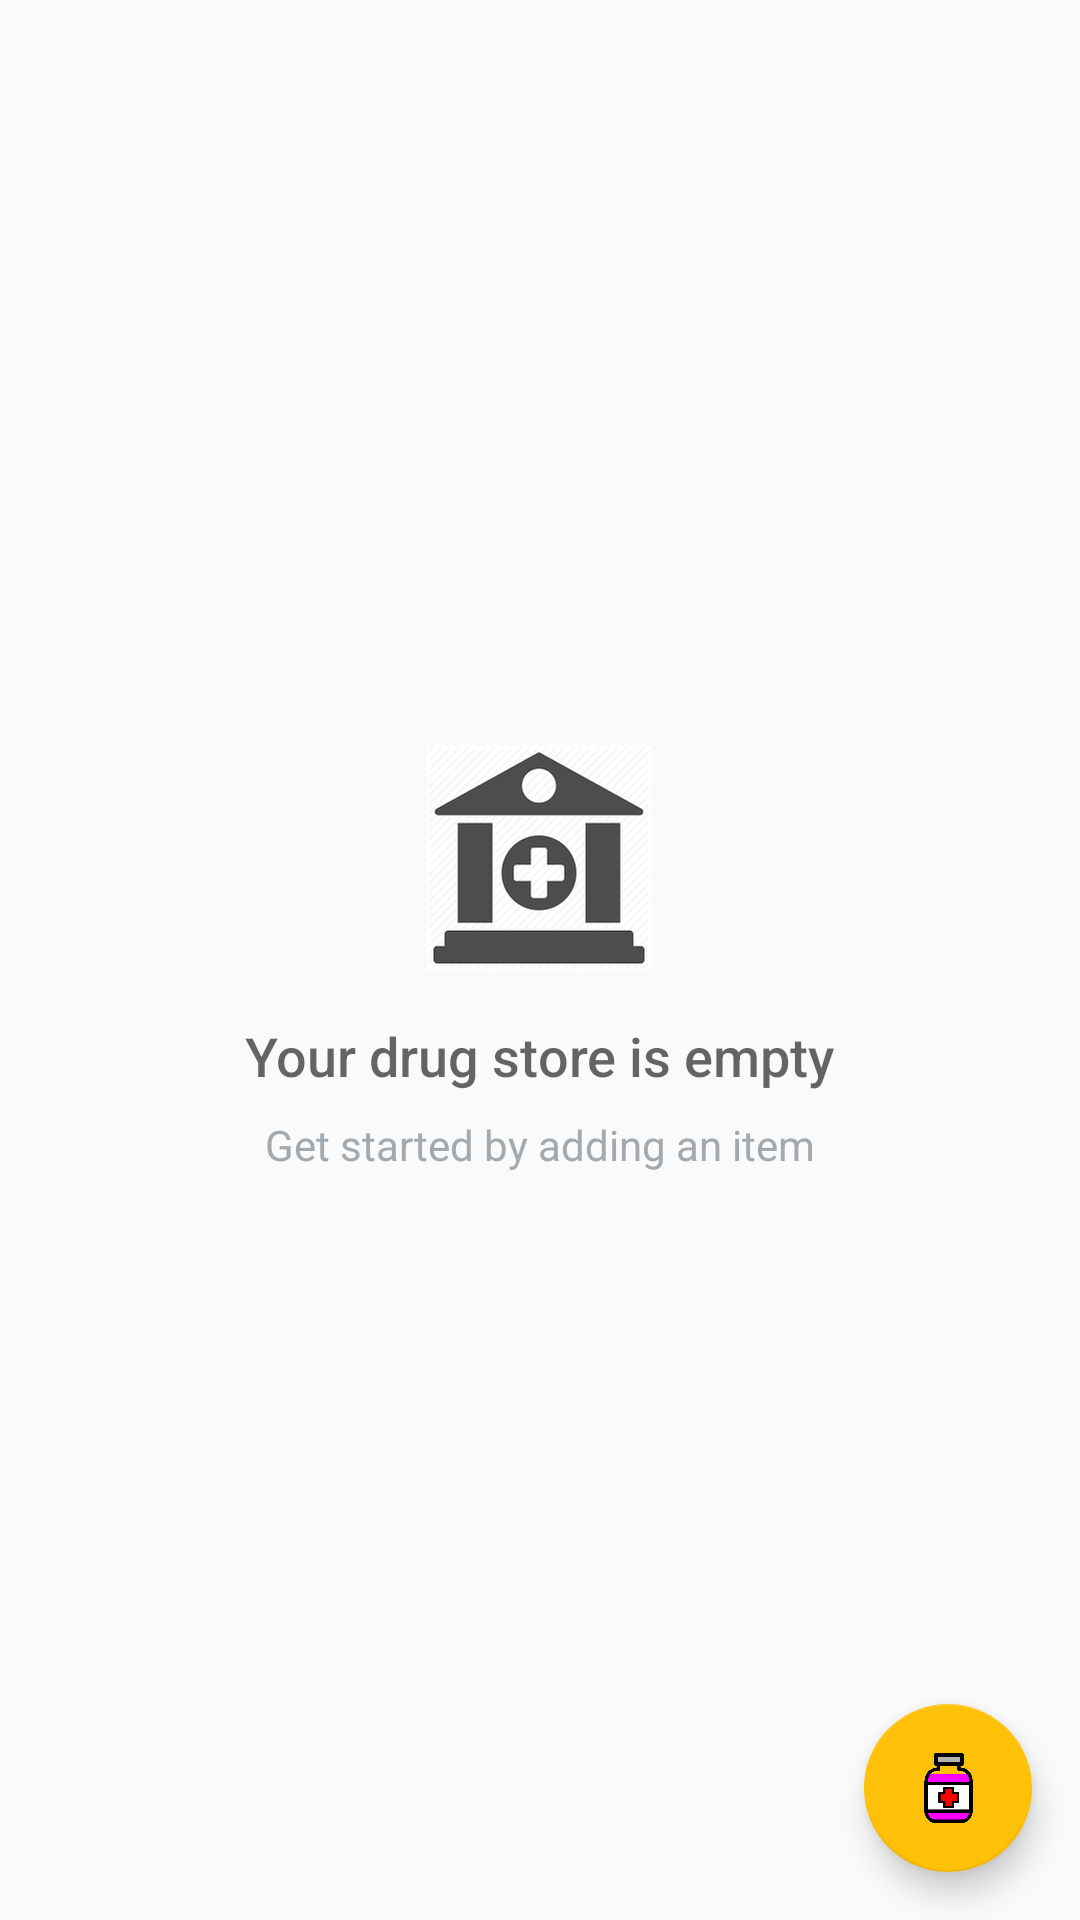

Icon bounding boxes for this 1080x1920 phone screenshot, format [x1=x1, y1=y1, x2=x2, y2=y2]:
A Pharmacy: [x1=433, y1=752, x2=645, y2=964]
add medicine: [x1=864, y1=1704, x2=1032, y2=1872]
